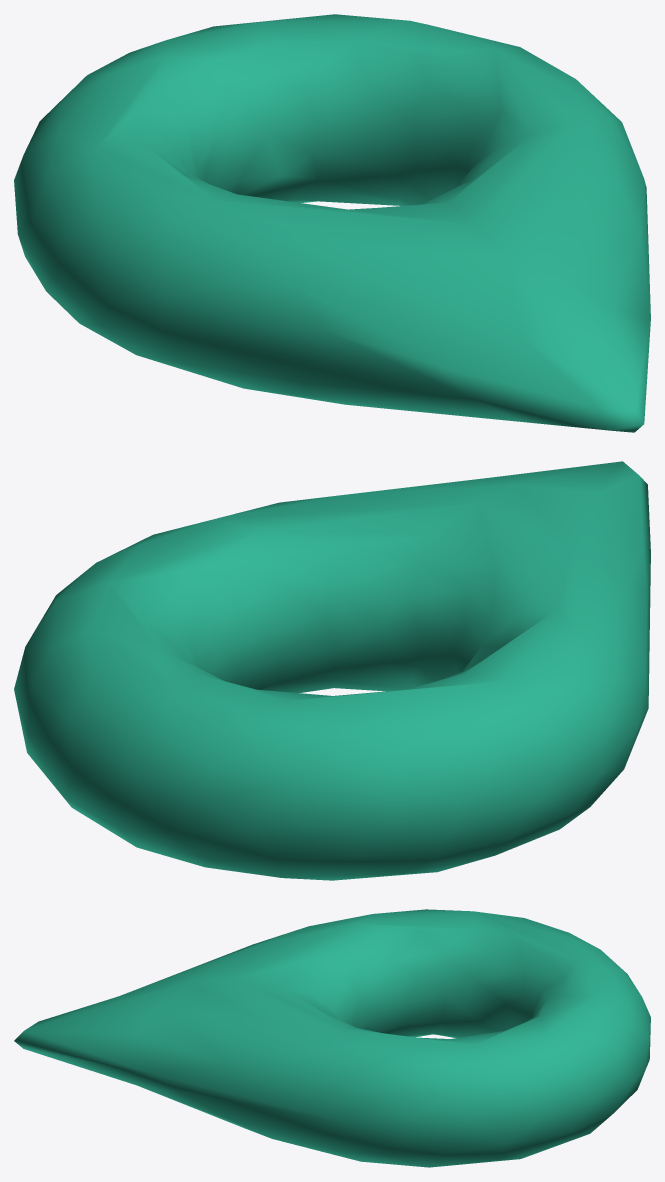
File: GPS_Marker.fbx
3 renders of one model, top to bottom at view 1: azimuth 30°, elevation 25°; view 2: azimuth 150°, elevation 25°; view 3: azimuth 270°, elevation 25°, orthographic. The views are drawn at different scales.
Visible parts, largest first — view 1: Torus.001; view 2: Torus.001; view 3: Torus.001.
Boxes of the visible parts, x1,y1,x2,y2 form: Torus.001: (14,14,650,432); Torus.001: (14,461,650,880); Torus.001: (14,909,650,1167).
Bounding box in the file's own units: 281 × 83.4 × 412.
